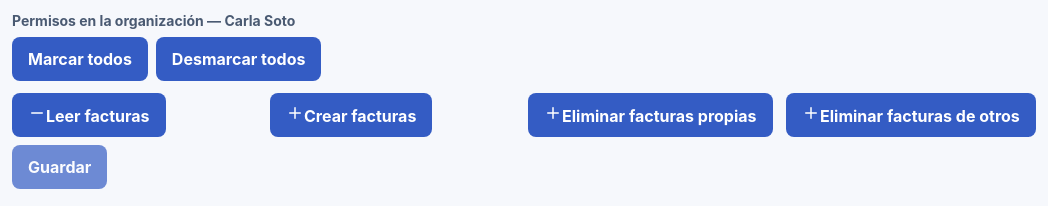
Test case: MemberPermissionsEditor, saved mode › enables Guardar only when the draft differs from the saved flags
The width and height of the screenshot is (1048, 206).
Expected: the button with aria-label "Guardar permisos de Carla Soto" is disabled, x1=12 y1=145 x2=107 y2=189
What coordinates should you click on to do the following:
click the button "Crear facturas"
I would click on:
 (351, 115)
Its box is x1=270 y1=93 x2=432 y2=137.
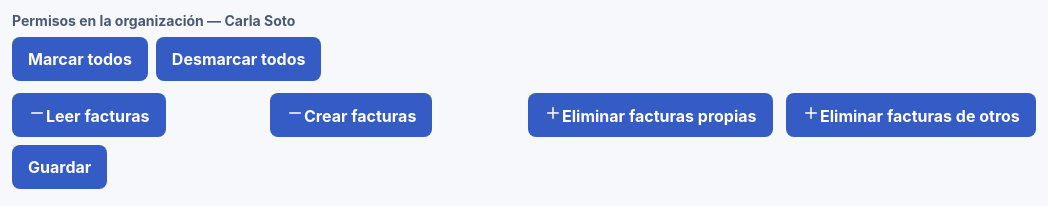
Expected: the button with aria-label "Guardar permisos de Carla Soto" is enabled, x1=12 y1=145 x2=107 y2=189
Note: Going back to the saved value makes it clean again.
What coordinates should you click on to do the following:
click the button "Crear facturas"
I would click on:
 (351, 115)
Its box is x1=270 y1=93 x2=432 y2=137.
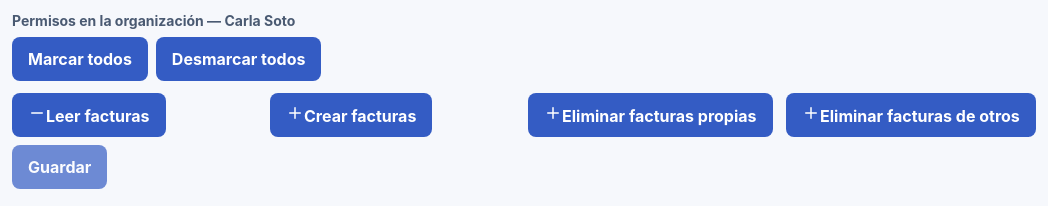
Expected: the button with aria-label "Guardar permisos de Carla Soto" is disabled, x1=12 y1=145 x2=107 y2=189
